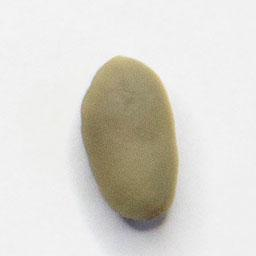peaberry: (76, 50, 184, 225)
